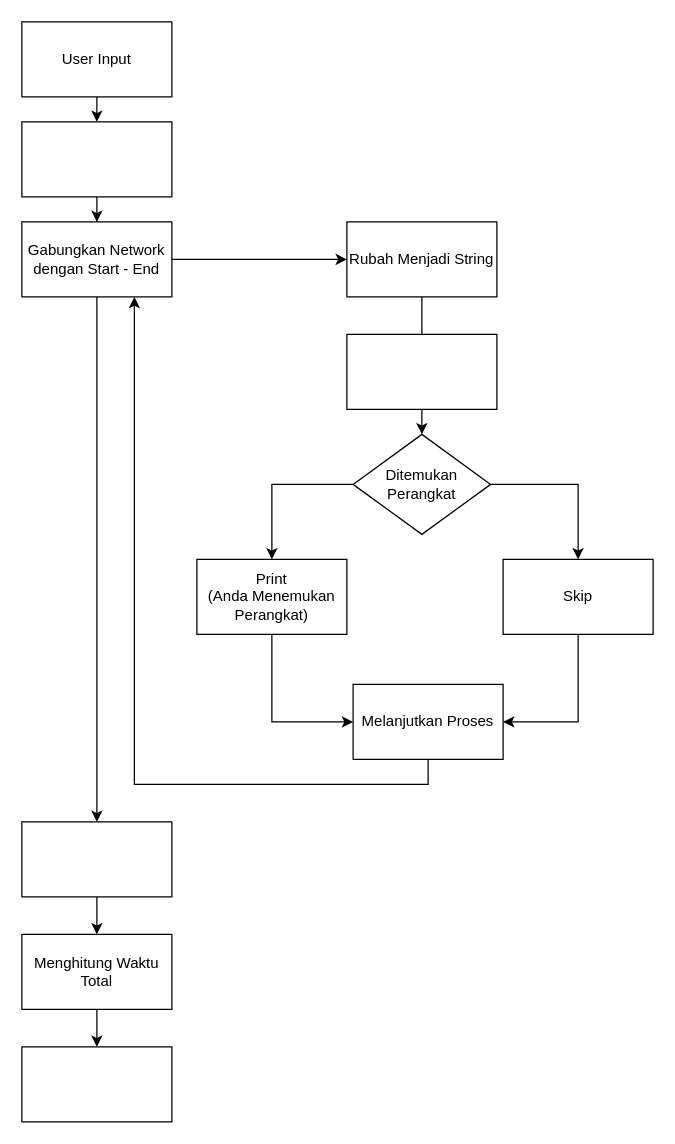
This 675x1144 diagram has some shape labels left out. The shapes that lost their labels are listed below. From the top down, each one's centre as x and y in pixels, then its label:
At (x=96, y=159): "Mencatat Start Time".
At (x=421, y=371): "Lakukan Ping".
At (x=96, y=859): "Mencatat Finish Time".
At (x=96, y=1084): "Program Selesai".
